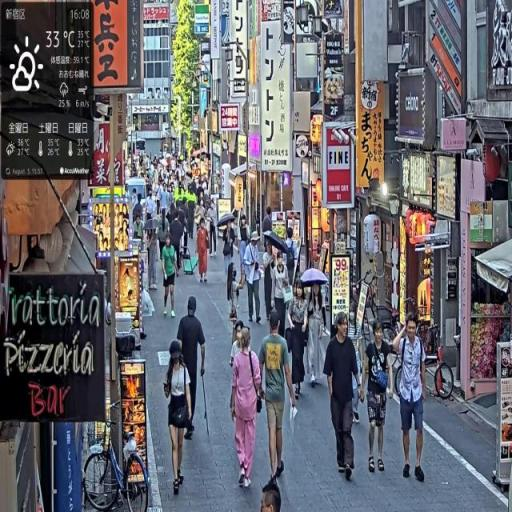person: (324, 311, 366, 482), (388, 313, 428, 484), (259, 308, 297, 486), (228, 323, 266, 497), (363, 322, 395, 475), (163, 343, 194, 493), (177, 297, 207, 440), (287, 280, 310, 405), (304, 281, 326, 388), (243, 232, 263, 327), (272, 249, 291, 340), (162, 235, 179, 319), (196, 218, 212, 287), (171, 210, 186, 277)
